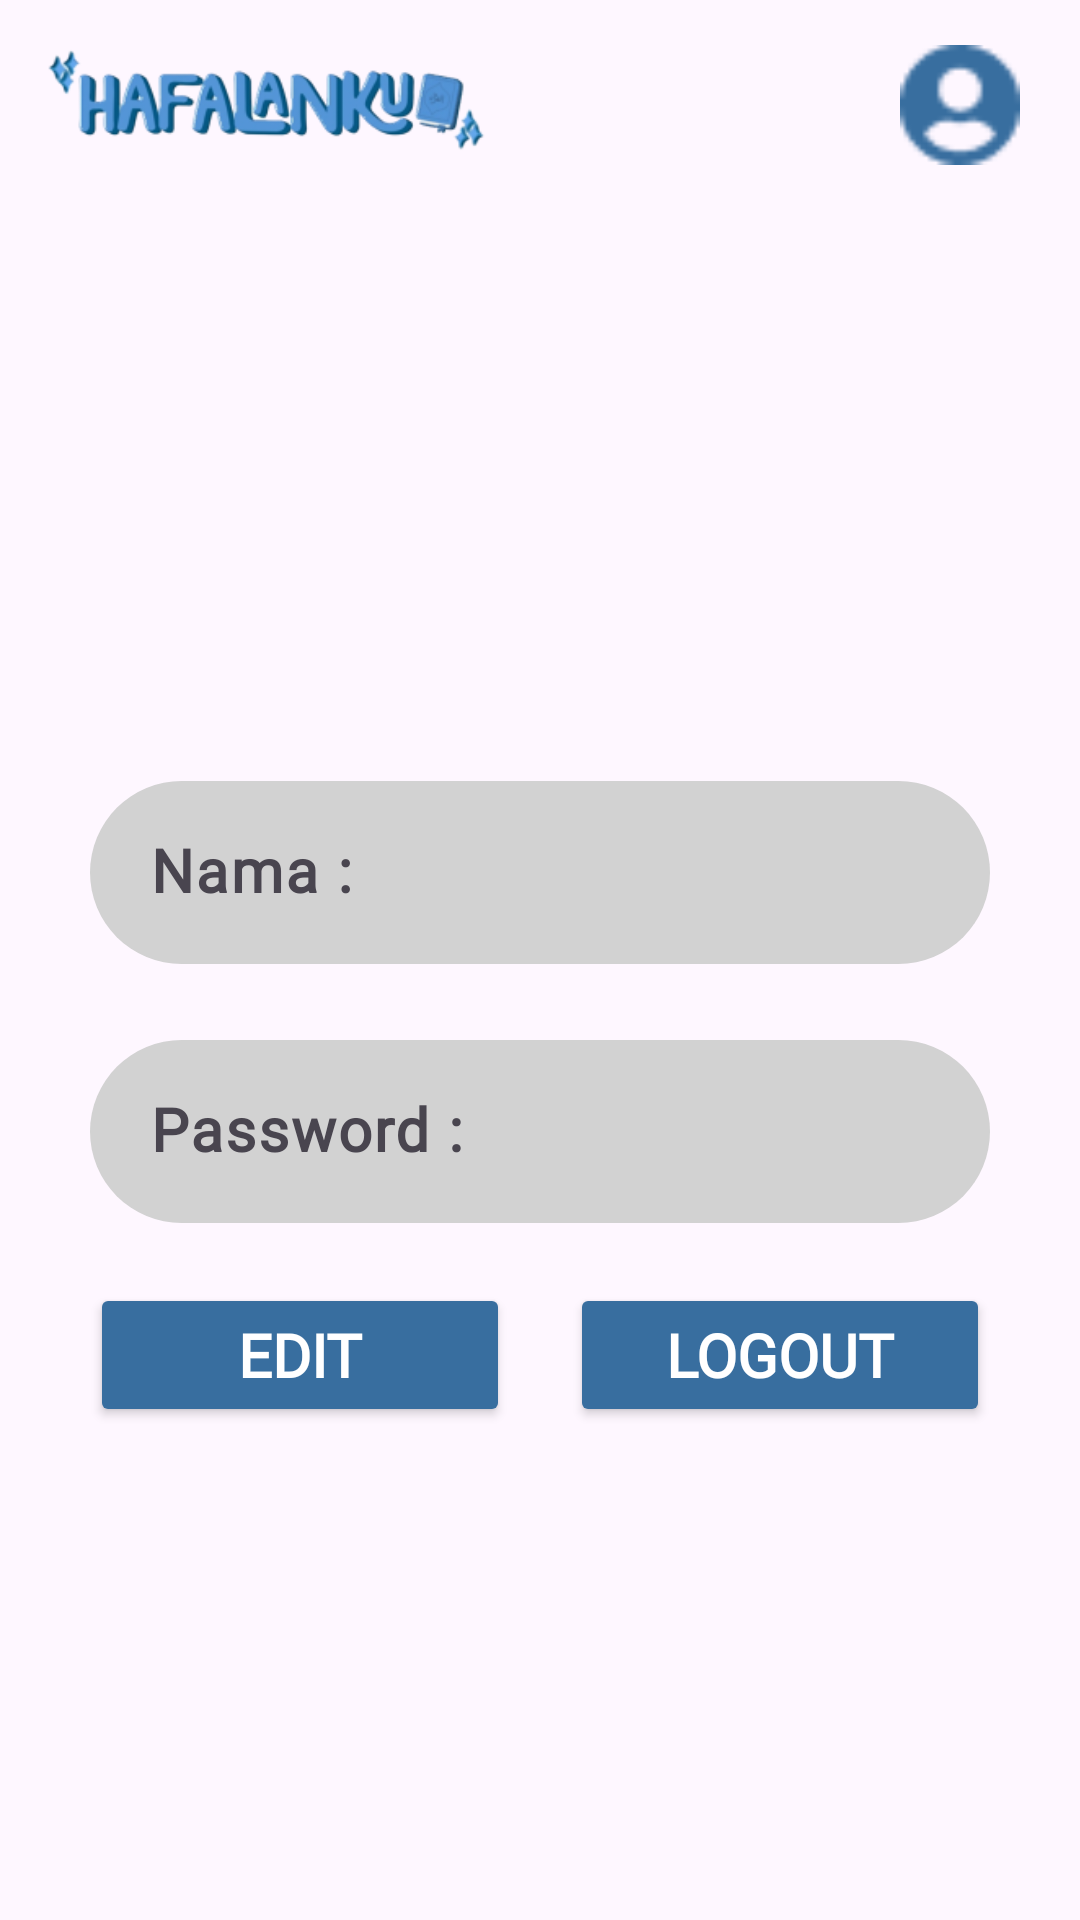

Where icons sit on this 1080 x 1920 app screen, as (x1,y1,x2,y2):
profile: (900,45,1020,165)
